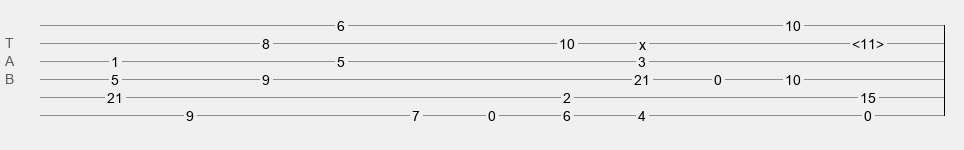0: (488, 108, 496, 118), (714, 72, 722, 82), (864, 108, 872, 118)
1: (111, 54, 119, 64)
10: (559, 36, 575, 46), (785, 72, 801, 82), (785, 18, 801, 28)
15: (860, 90, 876, 100)
2: (563, 90, 571, 100)
21: (107, 90, 123, 100), (634, 72, 650, 82)
3: (638, 54, 646, 64)
4: (638, 108, 646, 118)
5: (111, 72, 119, 82), (337, 54, 345, 64)
6: (337, 18, 345, 28), (563, 108, 571, 118)
7: (412, 108, 420, 118)
8: (262, 36, 270, 46)
9: (186, 108, 194, 118), (262, 72, 270, 82)
harmonic: (852, 36, 884, 46)
x: (639, 37, 646, 45)
